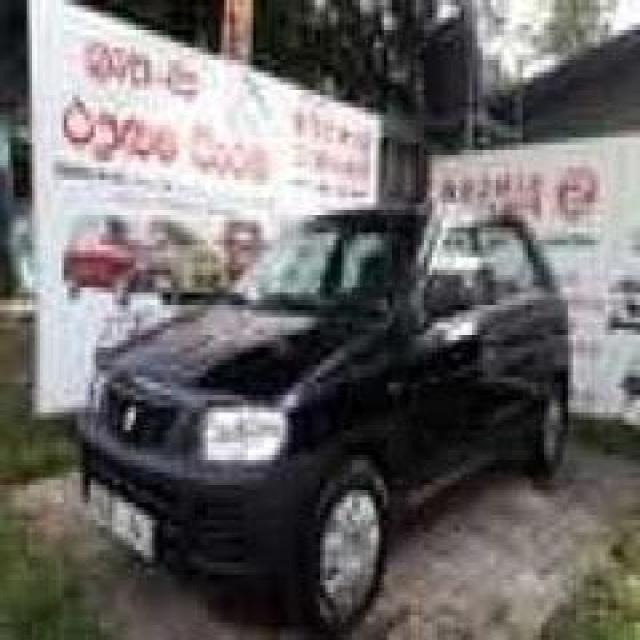car: (28, 176, 591, 639)
